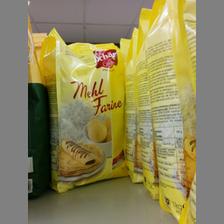flour: (40, 31, 126, 193)
